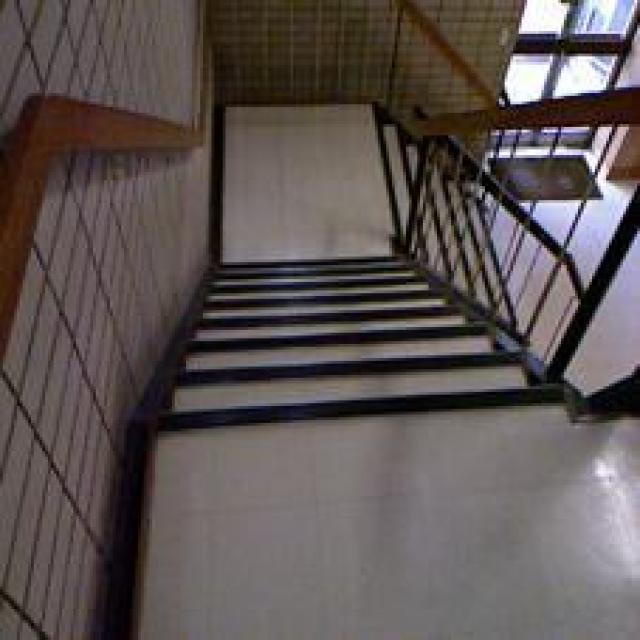downstair: (128, 266, 559, 441)
